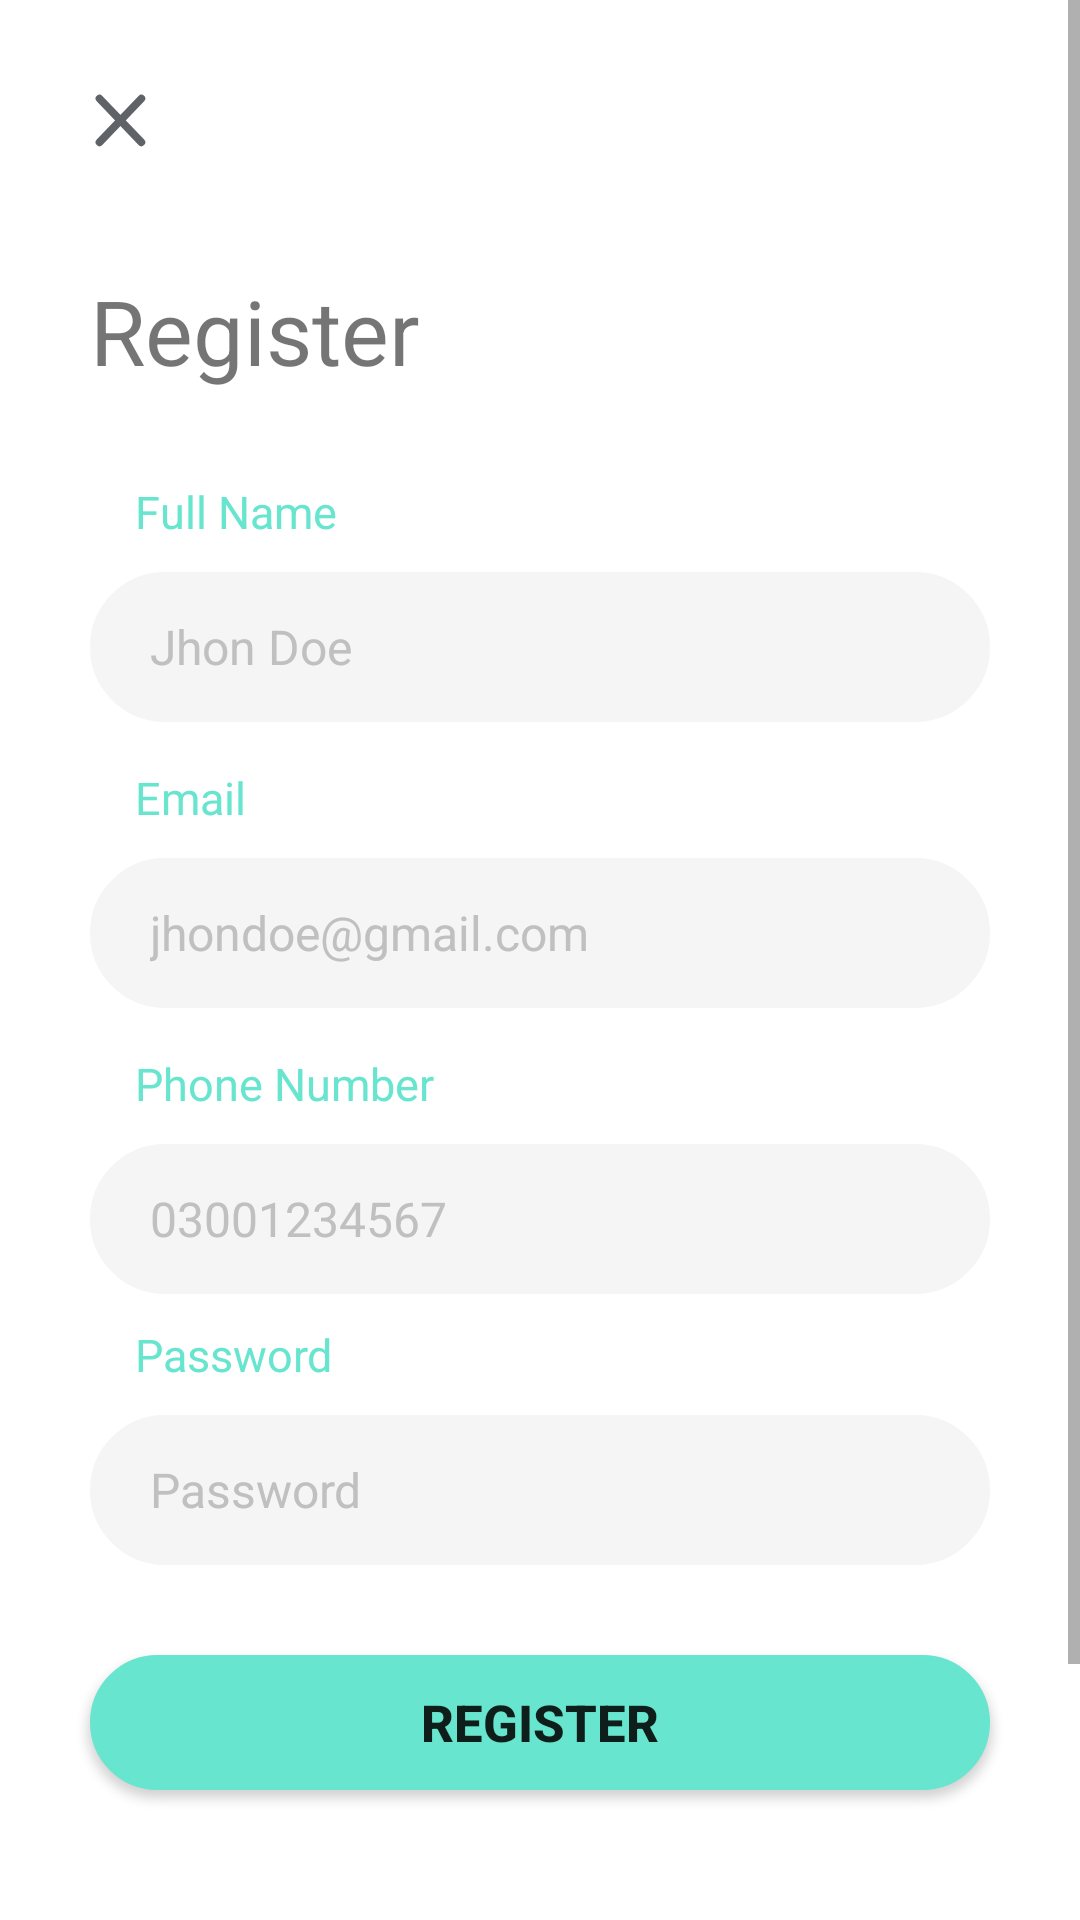

Screen size 1080×1920. Icon name, then its center in pixels as [x,y]:
cancel: [120,120]
